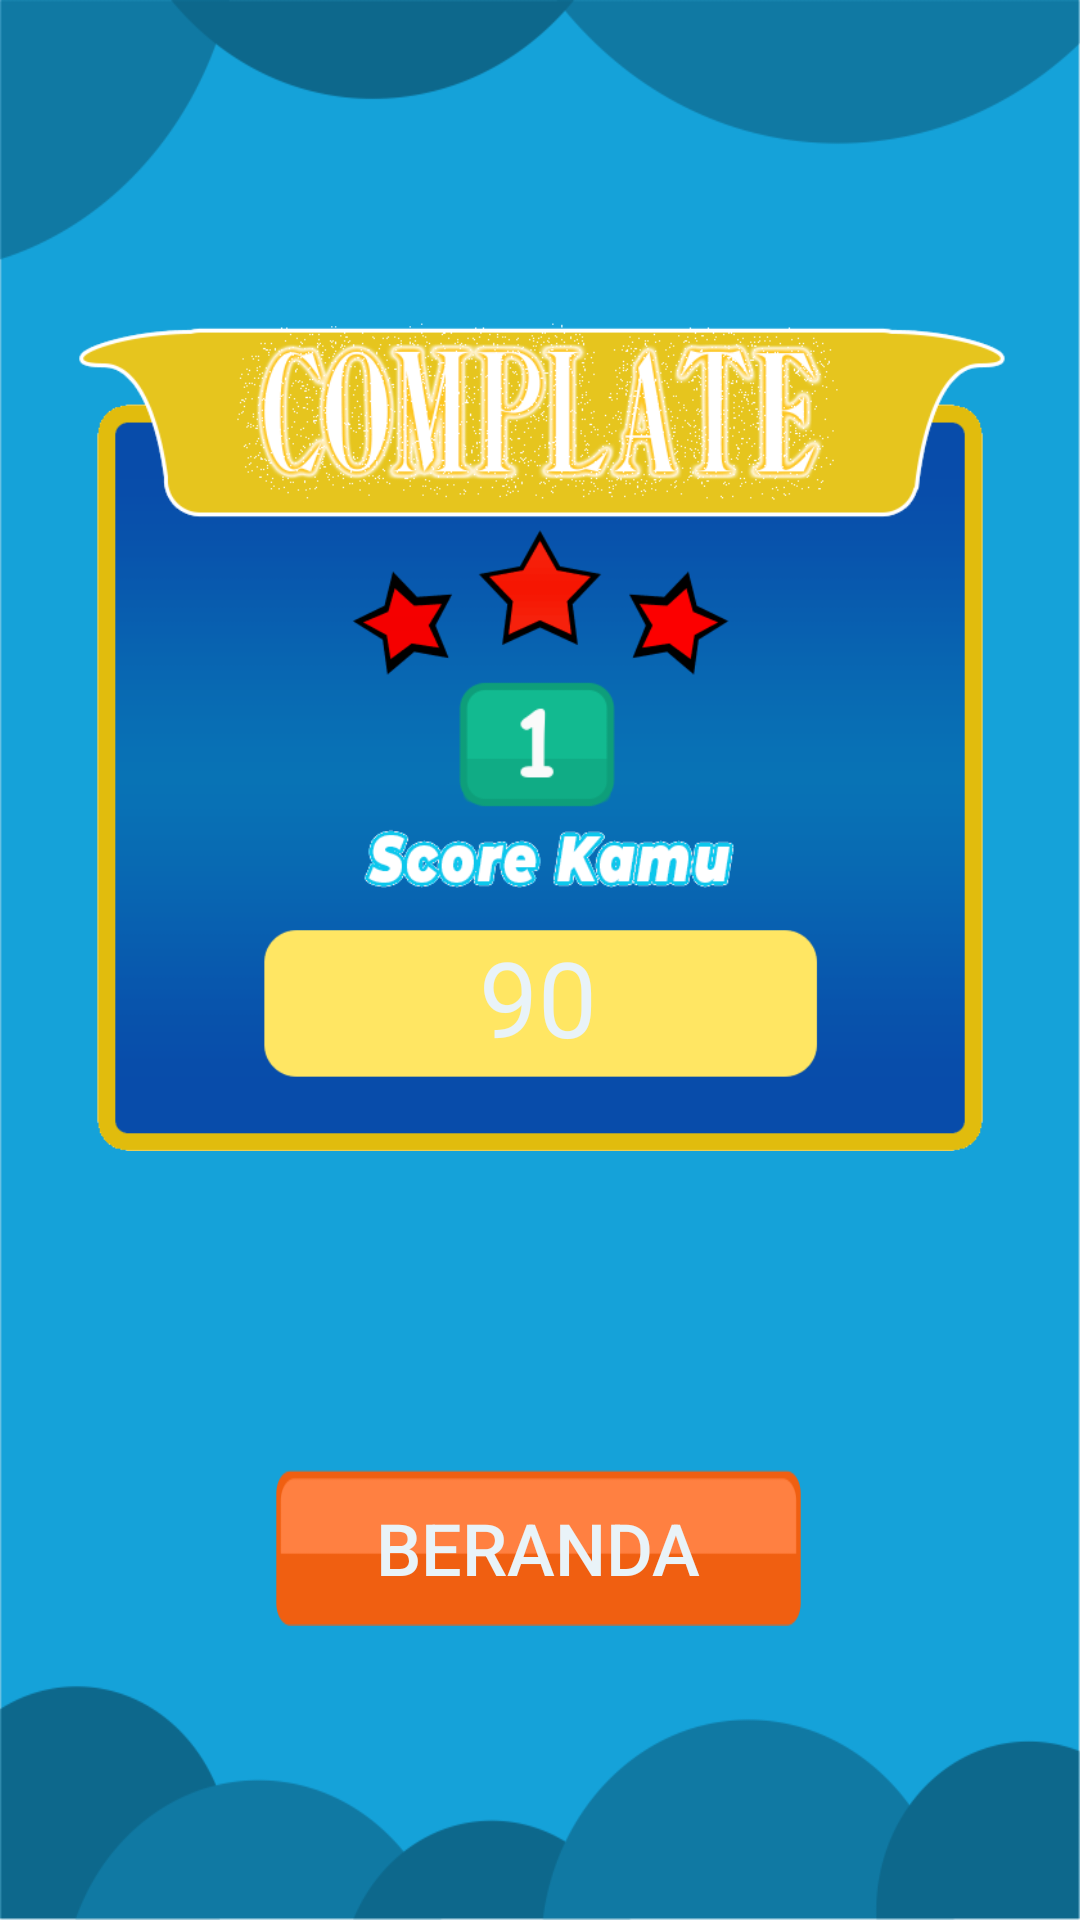

Where icons sit on this 1080px x 1920px app screen, as (x1, y1, x2, y2):
level: (460, 683, 614, 806)
